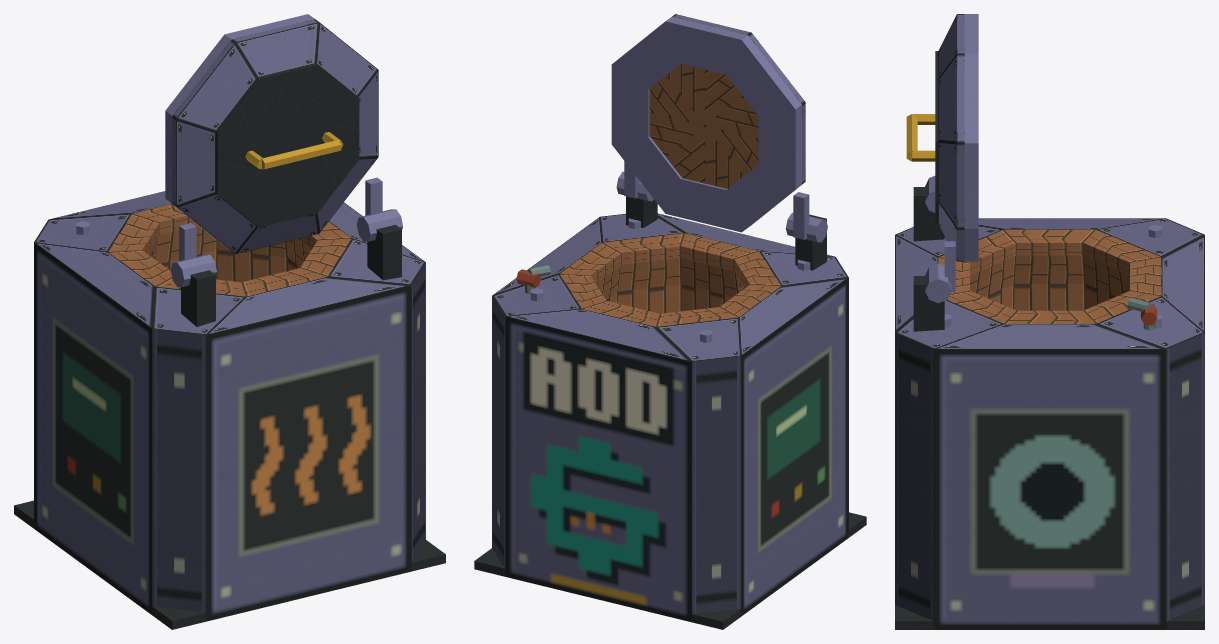
File: small_aod_tungsten_steel_open.obj
3 views of the same model, side by side, from view 1: azimuth 30°, elevation 25°; view 2: azimuth 150°, elevation 25°; view 3: azimuth 270°, elevation 25° (orthographic). The views are drawn at different scales.
Visible parts, largest first — view 1: contact_south, lid, contact_west, cut_corners, shoulder, rim, hinge, lining, sole_edge; view 2: contact_north, lid, contact_west, shoulder, cut_corners, rim, lining, hinge, sole_edge, gas_trim; view 3: contact_east, cut_corners, shoulder, lid, rim, lining, hinge, sole_edge, gas_trim.
Boxes of the visible parts, x1,y1,x2,y2 form: contact_south: (206, 285, 411, 621); lid: (165, 14, 382, 260); contact_west: (34, 242, 152, 614); cut_corners: (152, 263, 425, 612); shoulder: (34, 191, 425, 335); rim: (108, 204, 351, 296); hinge: (170, 209, 402, 326); lining: (148, 226, 311, 282); sole_edge: (14, 500, 445, 629); contact_north: (505, 316, 691, 622); lid: (611, 14, 809, 239); contact_west: (741, 277, 848, 616); shoulder: (492, 213, 848, 361); cut_corners: (492, 296, 740, 614); rim: (559, 233, 781, 326); lining: (596, 258, 744, 313); hinge: (616, 171, 827, 270); sole_edge: (474, 512, 866, 629); gas_trim: (516, 265, 550, 293); contact_east: (933, 349, 1166, 629); cut_corners: (895, 333, 1204, 620); shoulder: (895, 218, 1204, 349); lid: (906, 14, 978, 291); rim: (938, 229, 1161, 323); lining: (970, 255, 1129, 310); hinge: (913, 176, 951, 331); sole_edge: (895, 605, 1204, 629); gas_trim: (1127, 298, 1157, 330).
Size of the model in its own units: 1 by 1.89 by 1.
Materials: 14 (14 with a texture image).
